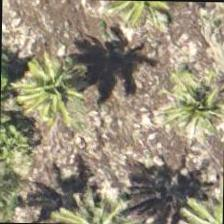Kelapa_Sawit: (14, 42, 106, 134), (153, 63, 223, 156)
